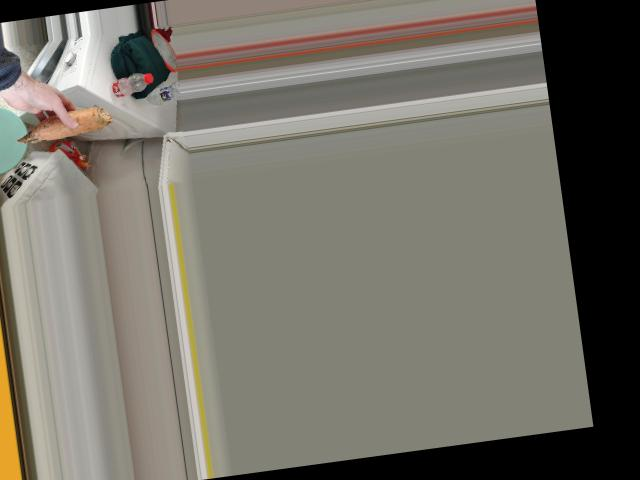sweet_potato: (13, 108, 117, 142)
